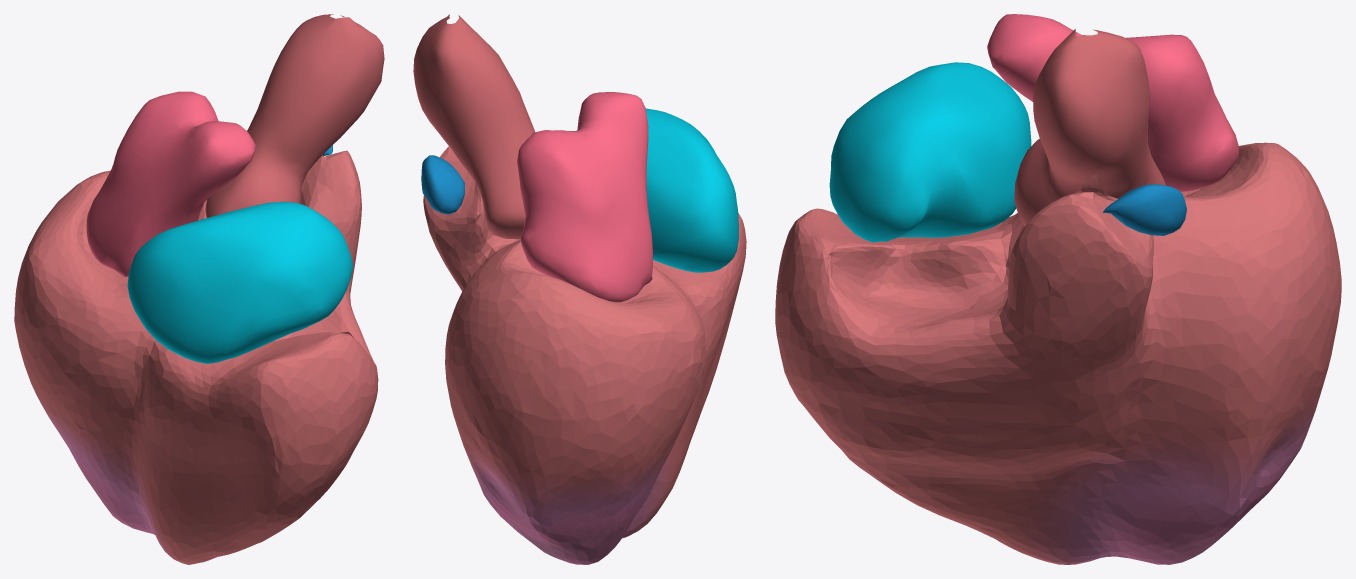
The model's file is frame_59.glb.
3 views of the same model, side by side, from view 1: azimuth 30°, elevation 25°; view 2: azimuth 150°, elevation 25°; view 3: azimuth 270°, elevation 25° (orthographic). The views are drawn at different scales.
Parts seen in each view (by area): view 1: Renderer Node; view 2: Renderer Node; view 3: Renderer Node.
Part boxes in pixels (<box>): Renderer Node: <box>14,14,384,564</box>; Renderer Node: <box>413,14,746,564</box>; Renderer Node: <box>775,14,1341,564</box>.
Size of the model in its own units: 103 by 158 by 128.
